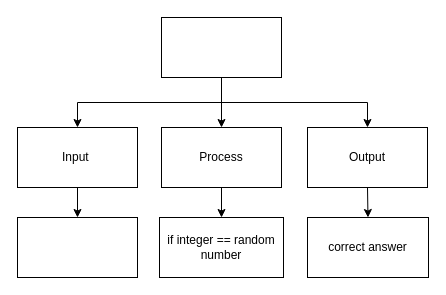
Image size: 446x295. Some labels were removed from this diagram. The centre of each missing label's shape, as x and y in pixels:
Get integer from user: point (77, 247)
Guessing Game: point (221, 47)
